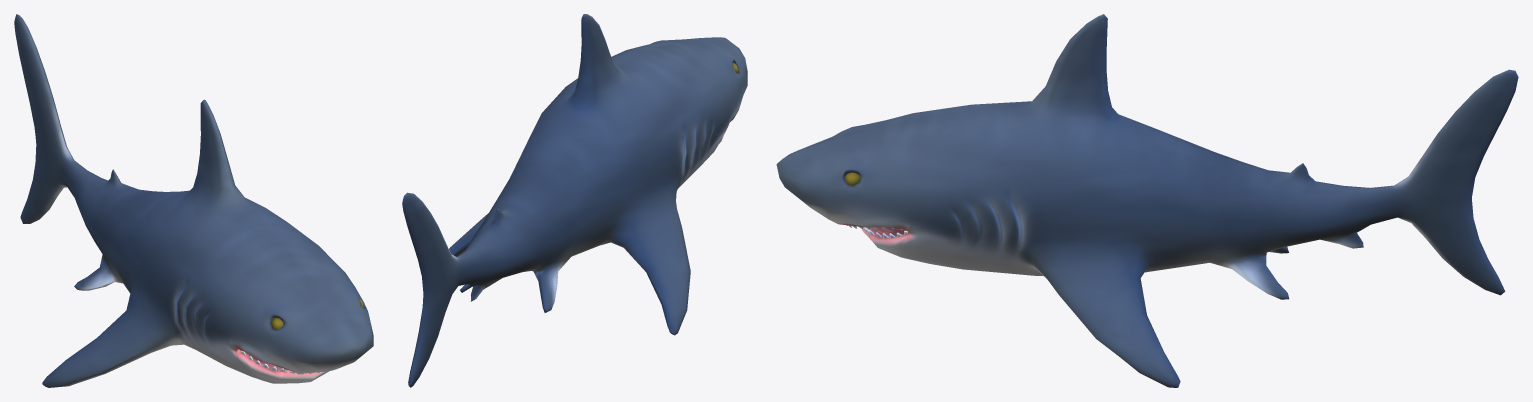
3 renders of one model, left to right at view 1: azimuth 30°, elevation 25°; view 2: azimuth 150°, elevation 25°; view 3: azimuth 270°, elevation 25°, orthographic. The views are drawn at different scales.
Visible parts, largest first — view 1: body_Low_0; view 2: body_Low_0; view 3: body_Low_0.
Part boxes in pixels (x1,y1,x2,y2): body_Low_0: (14, 14, 373, 387); body_Low_0: (402, 14, 747, 387); body_Low_0: (776, 14, 1518, 387).
Size of the model in its own units: 1.89 by 1.97 by 4.32.
